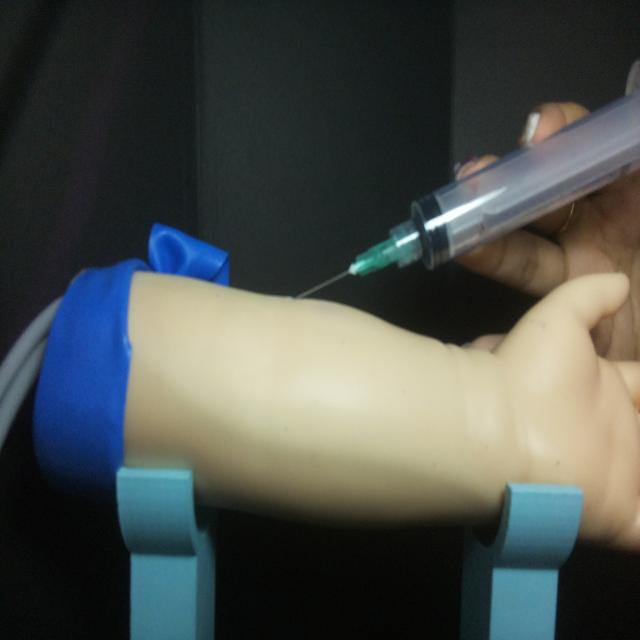16deg: (291, 57, 640, 300)
